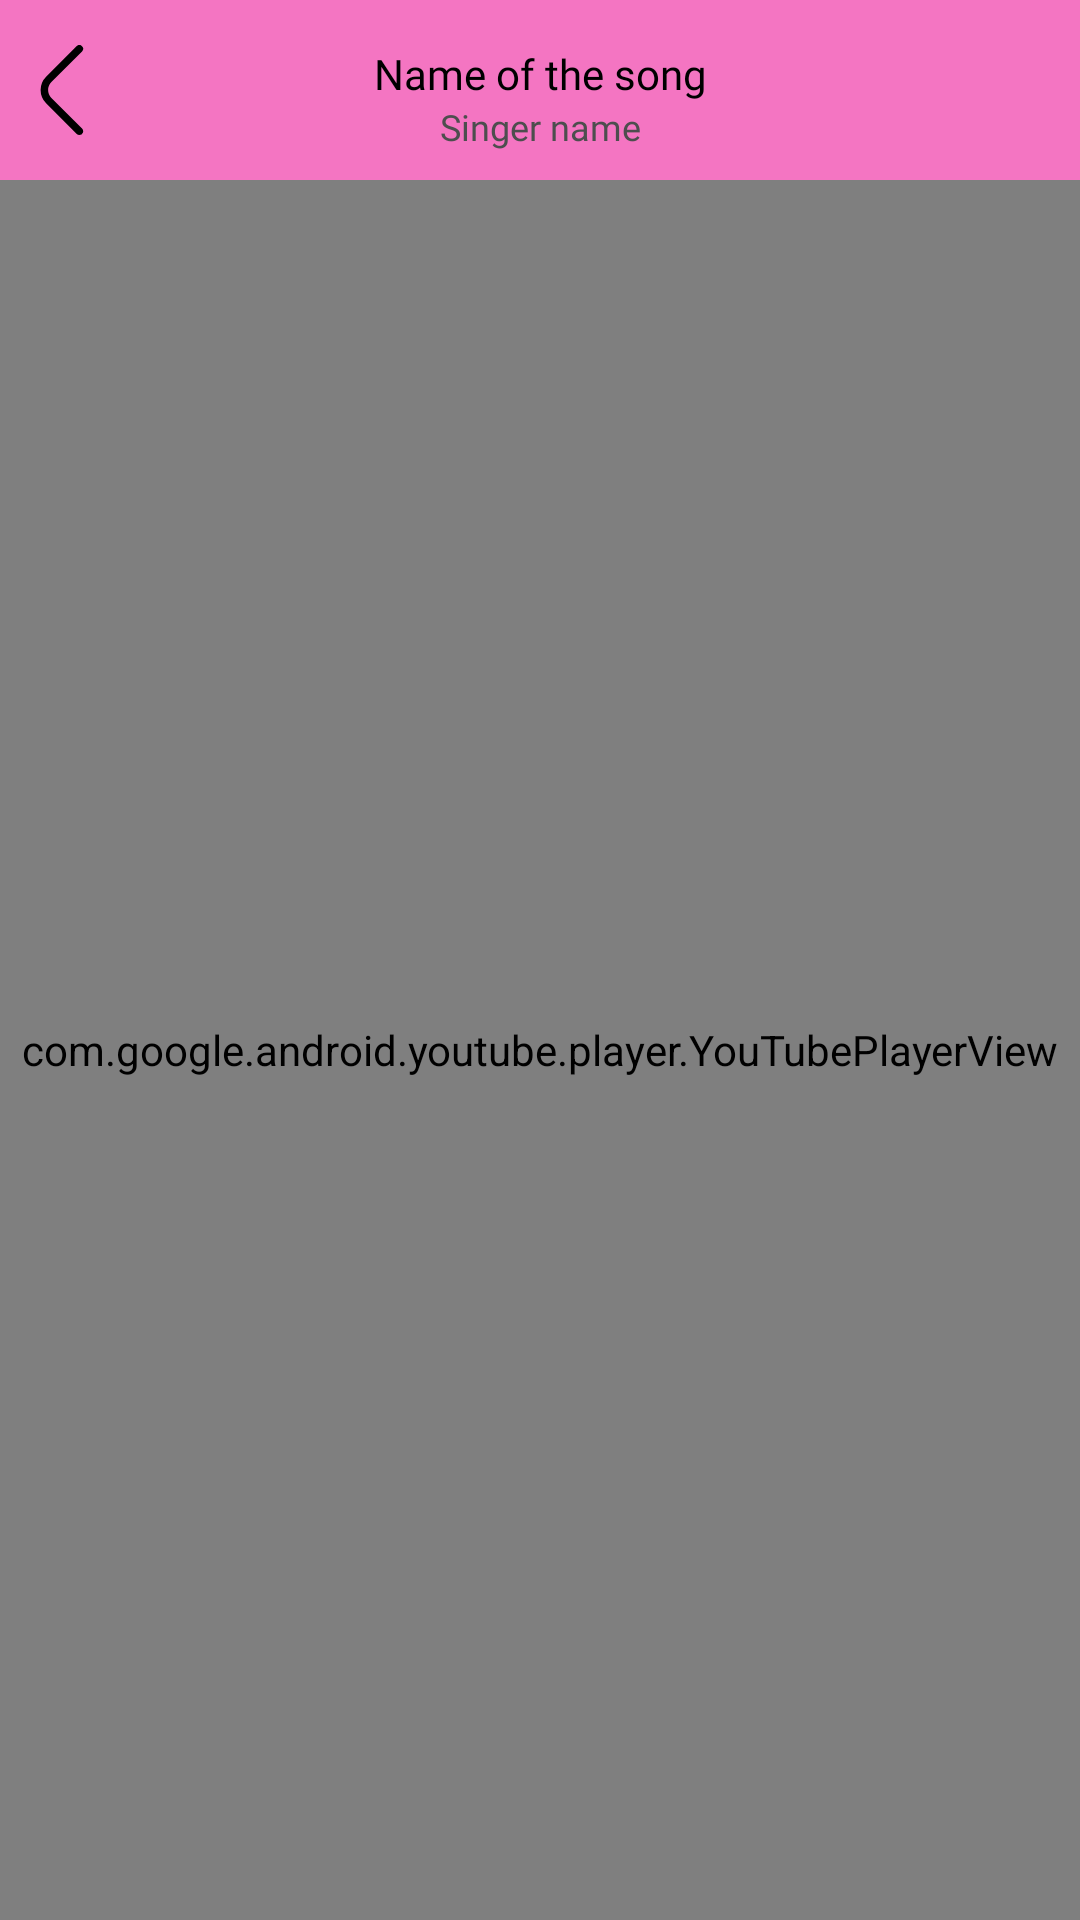

Screen size 1080px x 1920px. Icon name, then its box in pixels as detection(x1, y1, x2, y2):
angle left: detection(40, 45, 84, 135)
